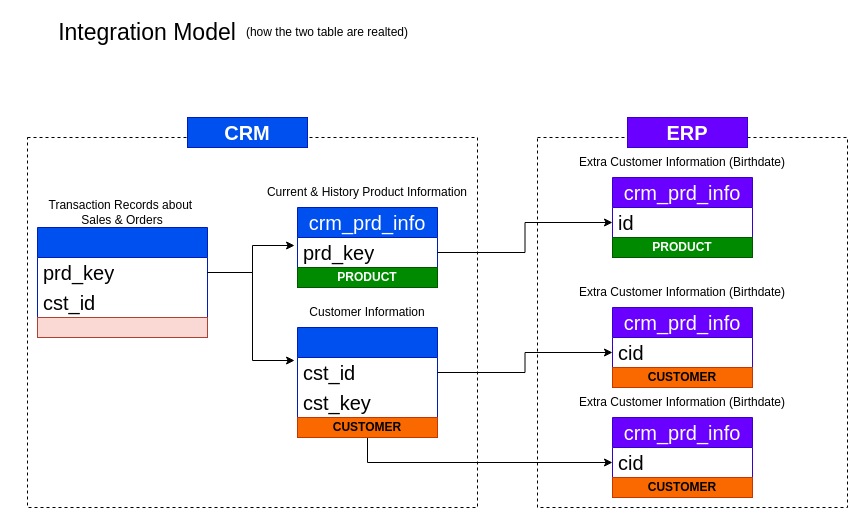
This 865x525 diagram has some shape labels left out. Each missing label, with the box of its shape:
crm_cust_info: (296, 326, 438, 418)
crm_sales_details: (36, 226, 208, 318)
SALES: (36, 316, 208, 338)
